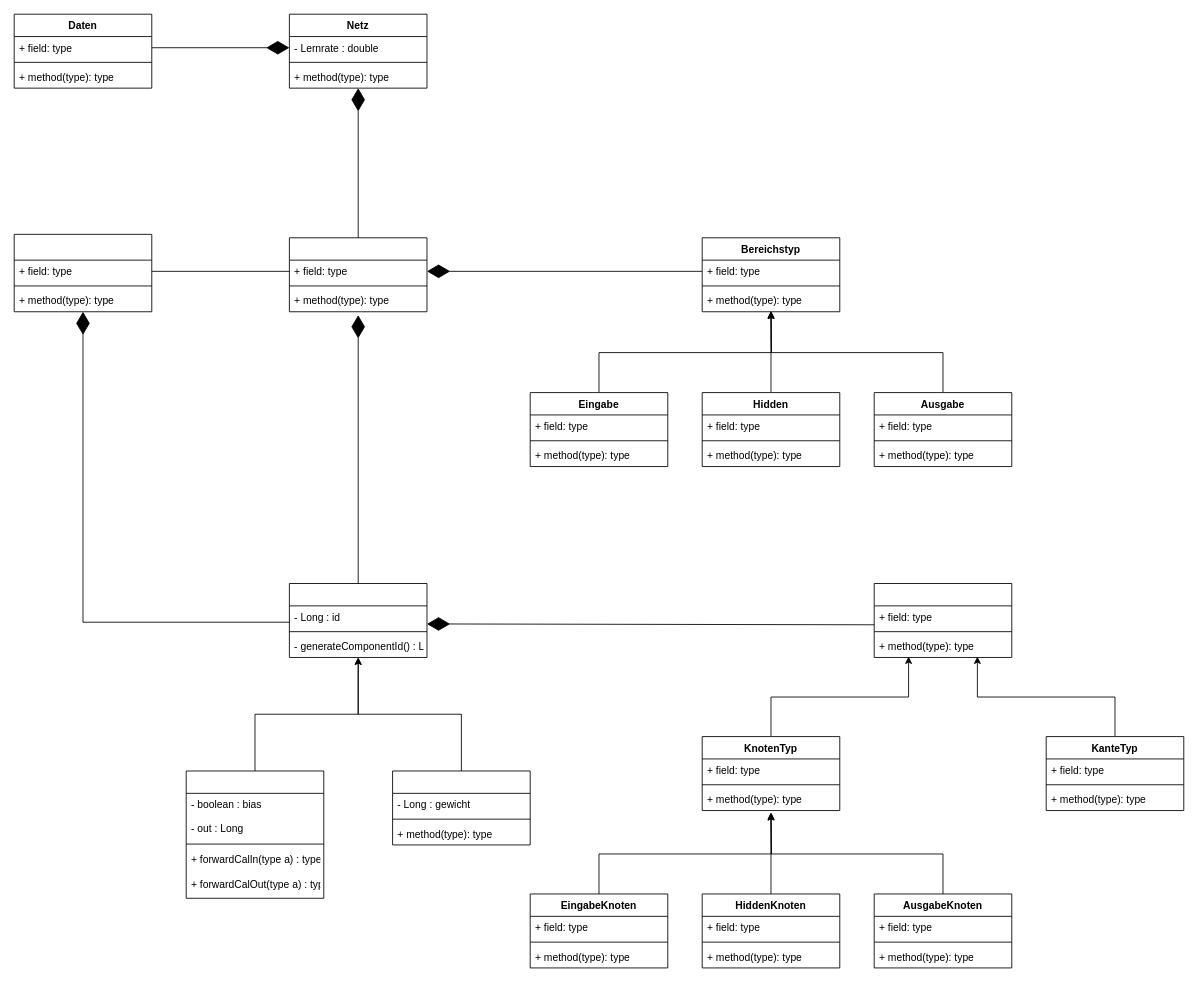
The diagram is 1198 pixels wide and 982 high, and some of its shapes have lost their labels. Here are the shapes that lost their labels. From the top down, the box of each, then its label:
(13, 233, 152, 312): KantenSchicht
(289, 237, 427, 312): Schicht
(289, 583, 427, 657): SchichtKomponent
(873, 583, 1012, 657): SchichtTyp
(392, 770, 530, 845): Kante
(185, 770, 324, 898): Knoten
